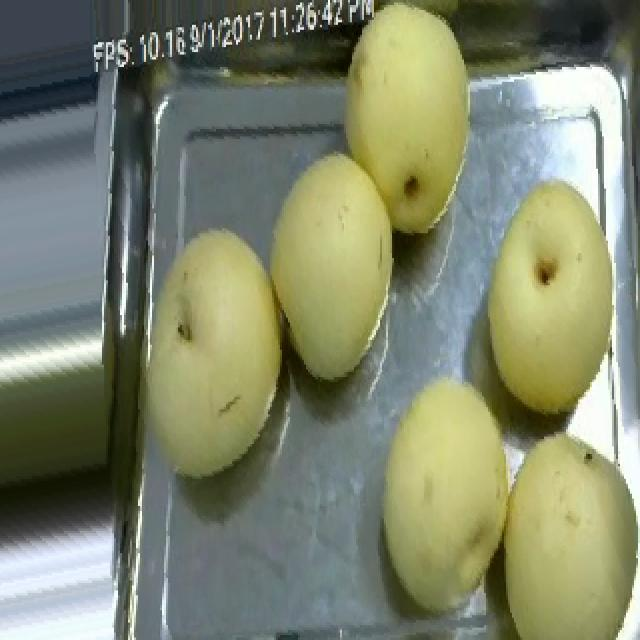Fruit: (352, 357, 550, 635), (110, 213, 300, 499), (464, 166, 640, 437), (470, 387, 640, 640), (324, 3, 488, 248), (260, 139, 408, 389)
